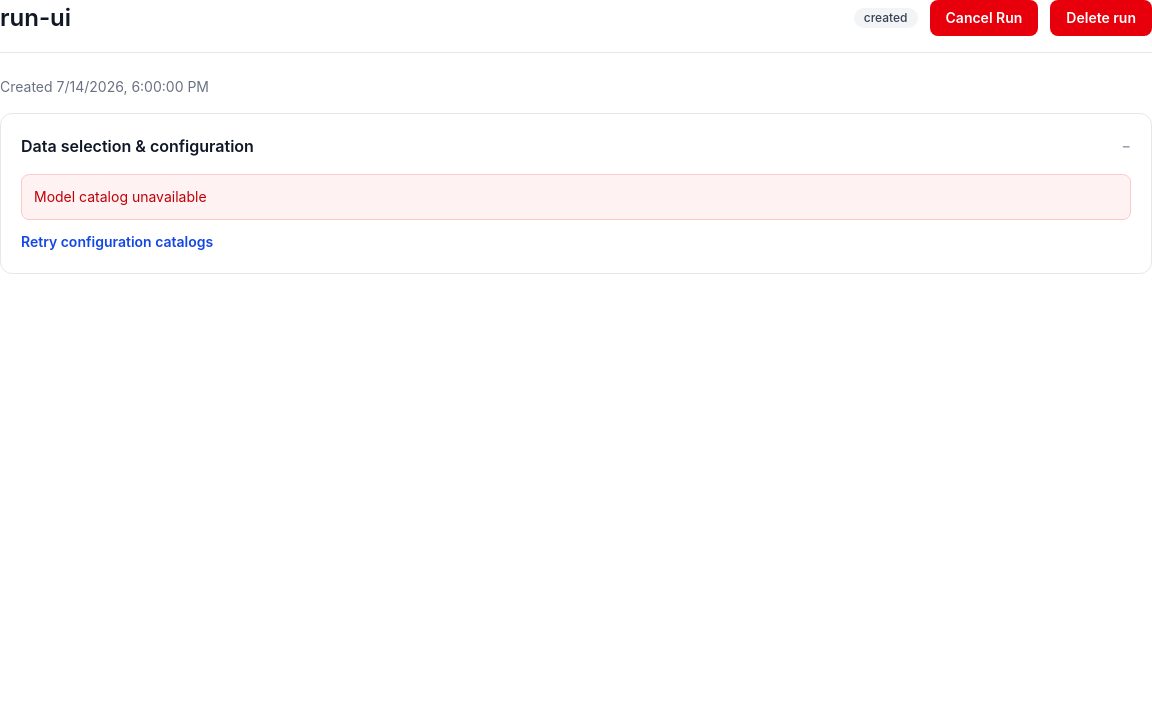
RunDetail wiring › retries session discovery and model catalogs in place
Click the button "Retry configuration catalogs".
click(117, 242)  # box [21,232,213,252]
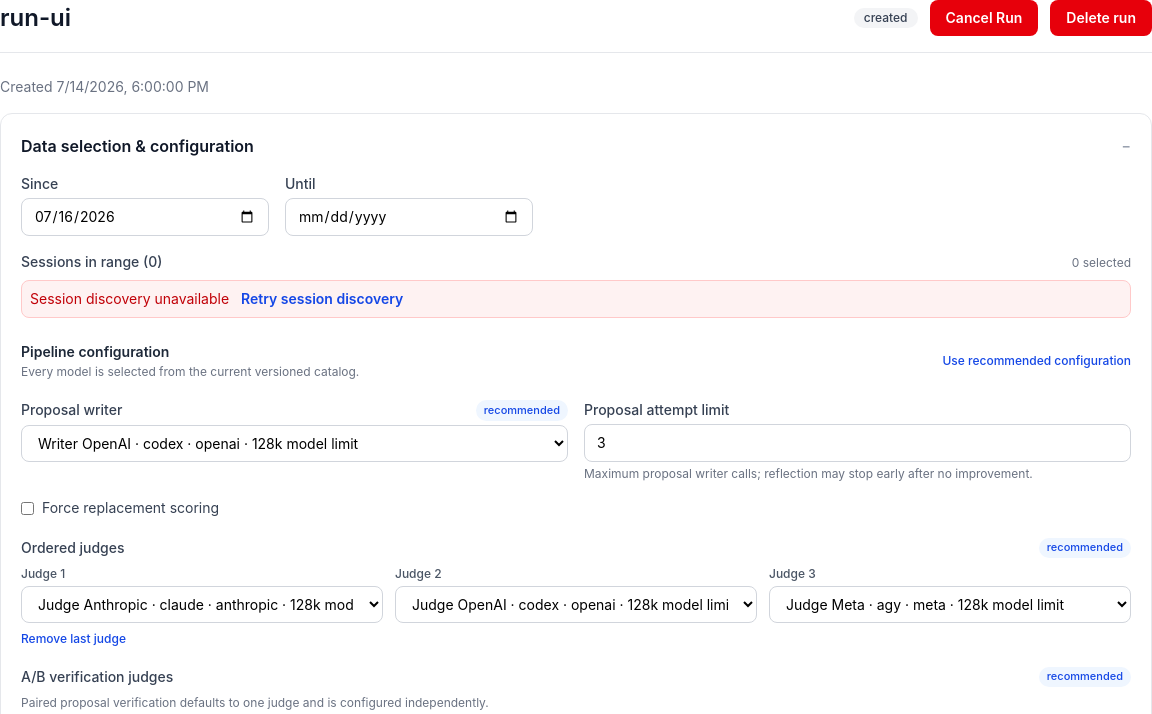
Click the button "Retry session discovery".
click(322, 299)  # box [241,289,403,309]
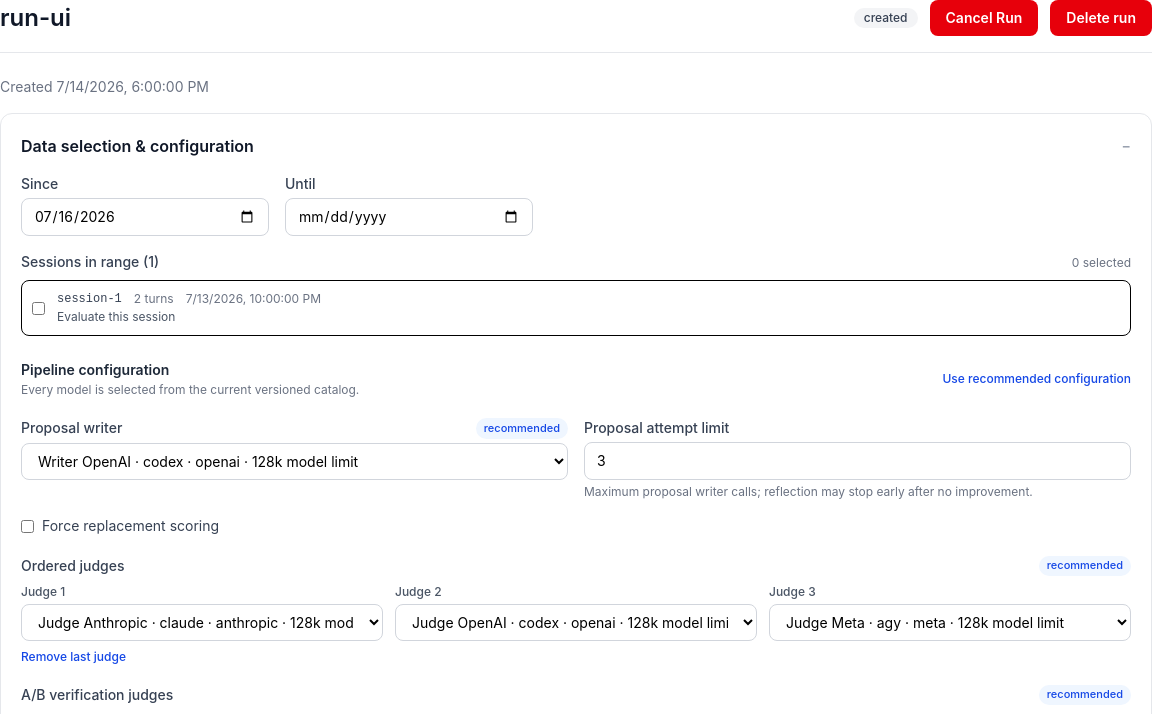
Check: the checkbox named "Select session session-1" is shown, box [32,302,45,314]
